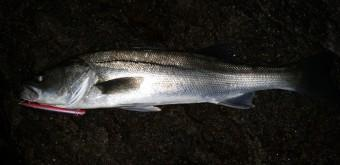fish: (22, 48, 332, 111)
